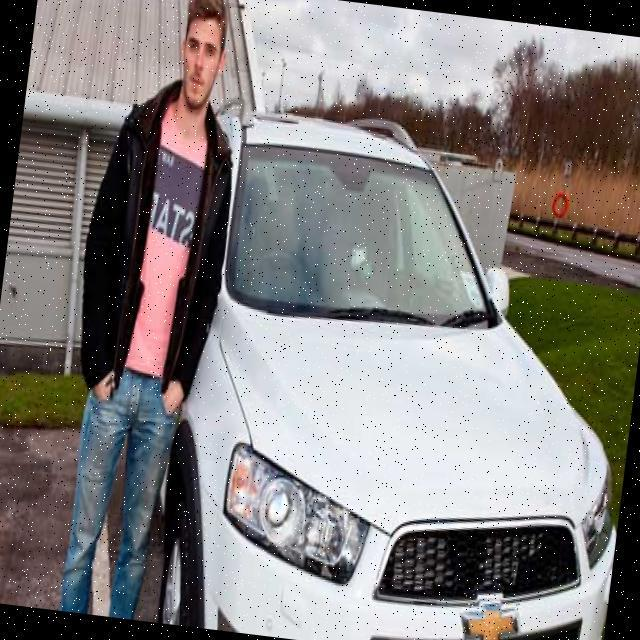Chevrolet: (457, 588, 523, 640)
